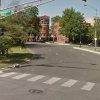Crosswalk: (4, 60, 98, 92)
